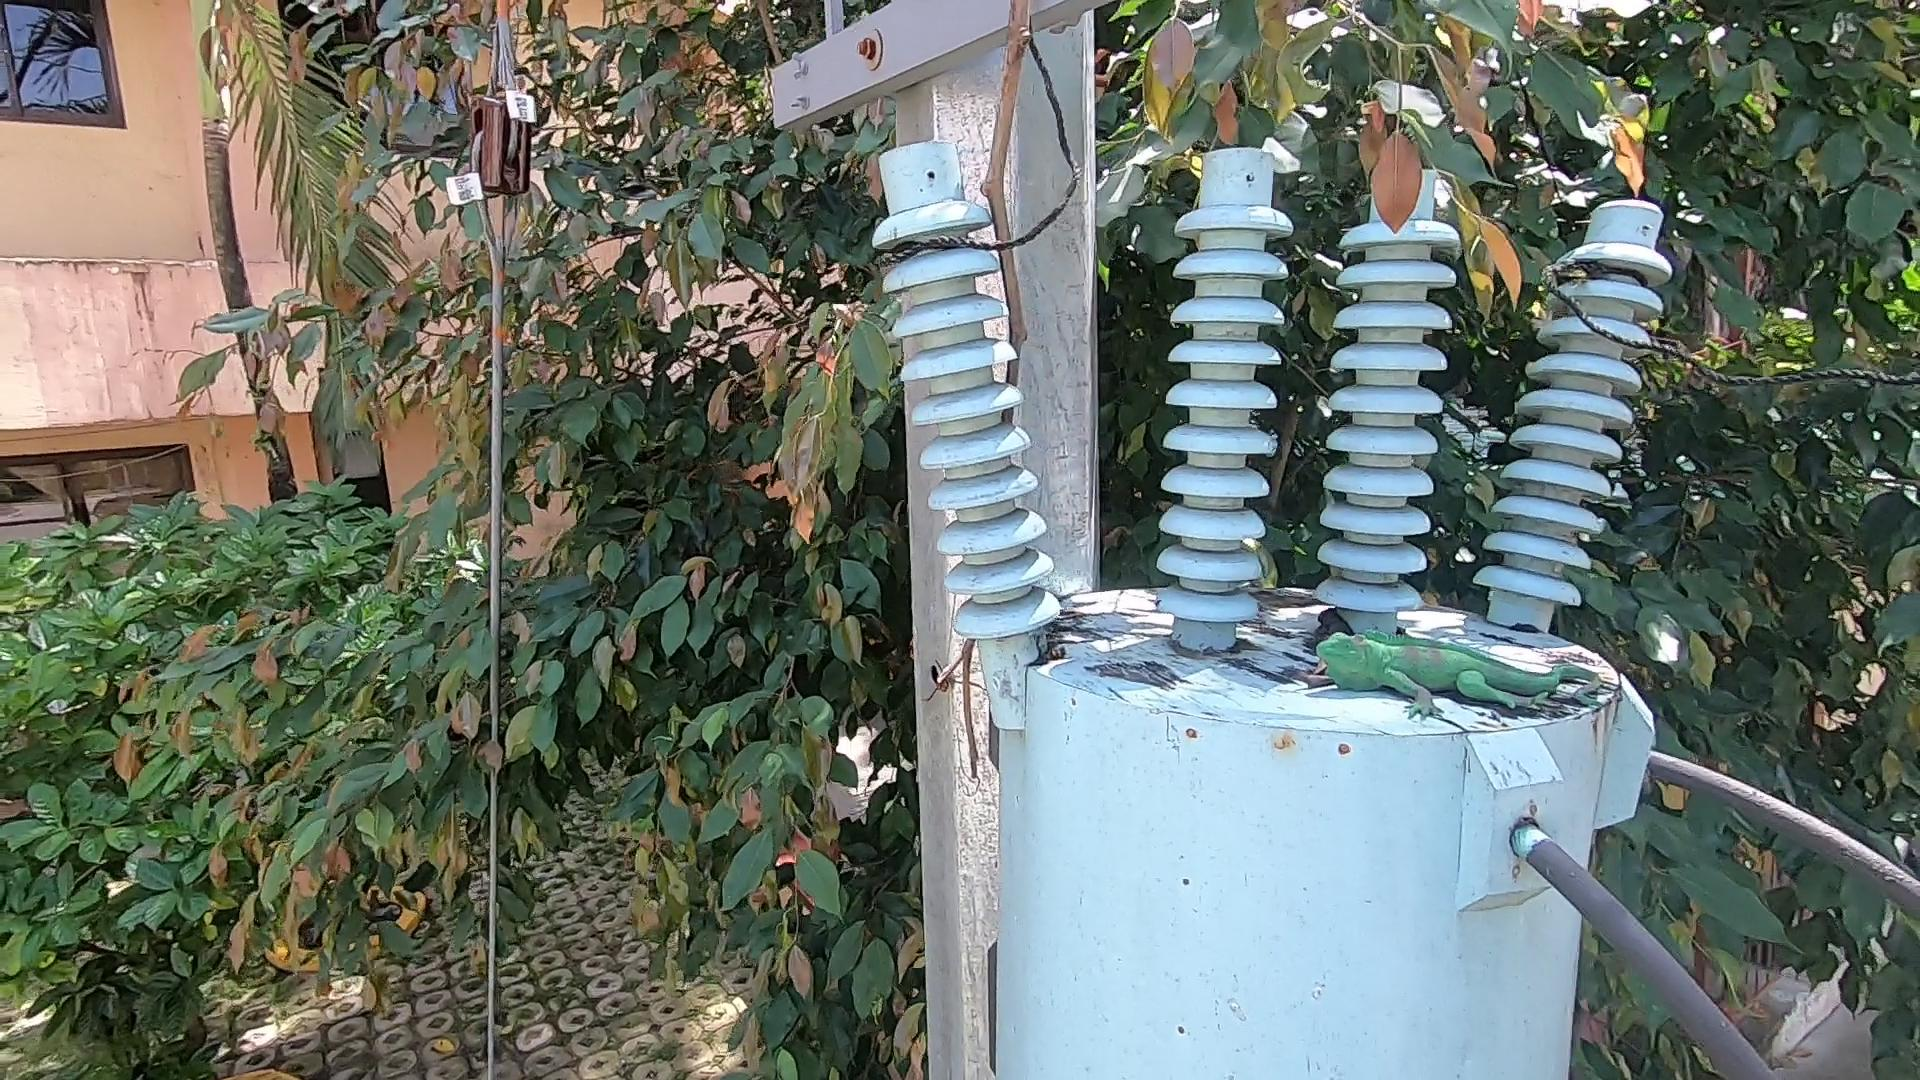branch with leaves: (1338, 50, 1561, 345)
leaf: (1302, 603, 1345, 684), (1015, 632, 1073, 666)
tree branch: (963, 26, 1047, 807)
